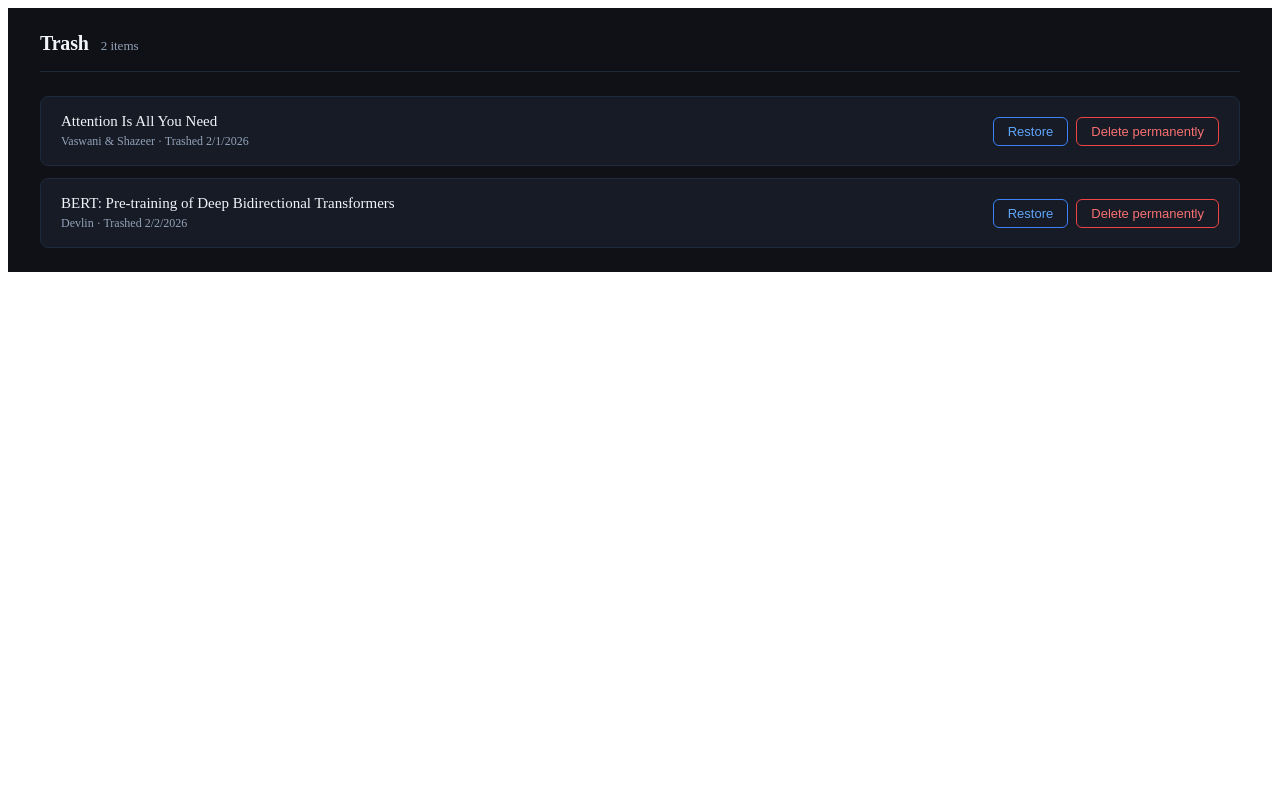
Test case: TrashView [L2-04] › permanently purges paper when confirmed in modal
This screenshot has width=1280, height=800.
Step 1. Click the button with aria-label "Delete Attention Is All You Need permanently" → [1148, 131], box x1=1076 y1=116 x2=1219 y2=146
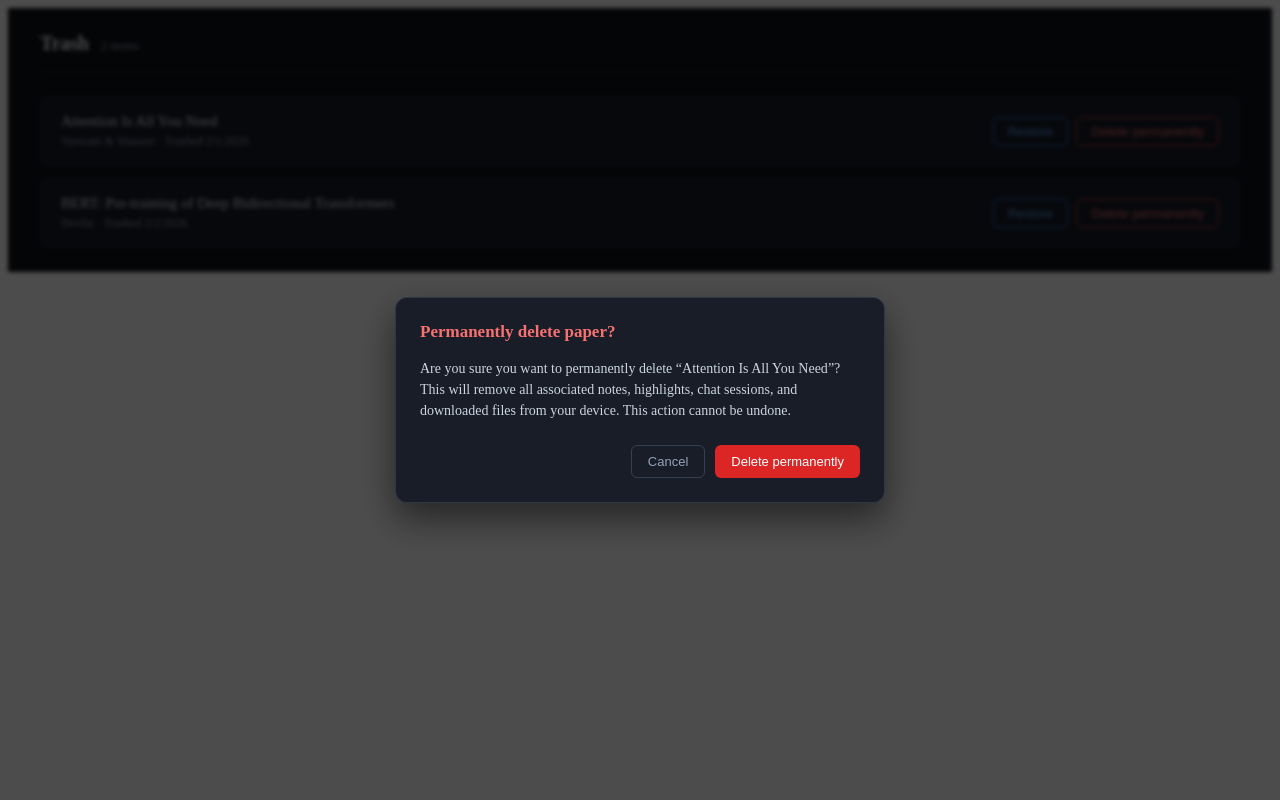
Step 2. Click the button with aria-label "Confirm purge" → [788, 462], box x1=715 y1=445 x2=860 y2=478
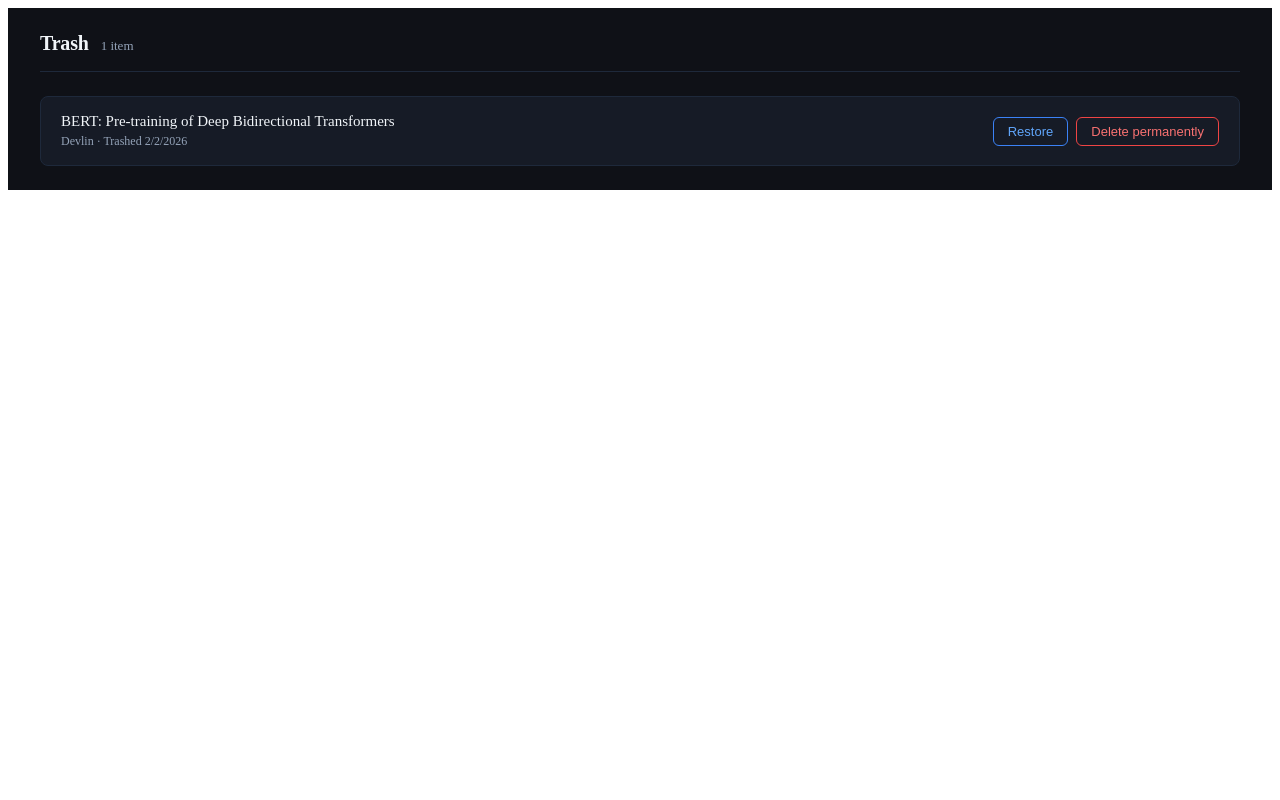
Expected: the dialog is gone
Expected: the text "Attention Is All You Need" is gone
